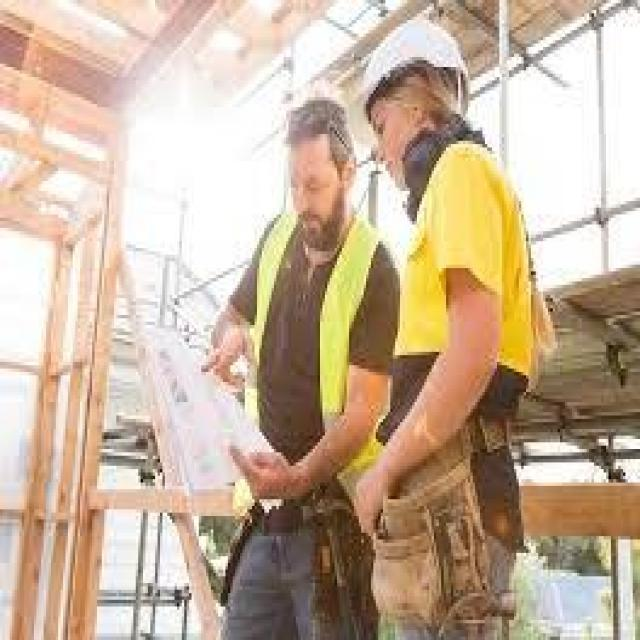Reflective-Jacket: (232, 208, 392, 516), (386, 134, 550, 402)
Safety-Helmet: (354, 16, 480, 110)
